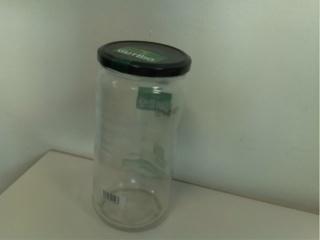pote cristal: (90, 39, 194, 235)
